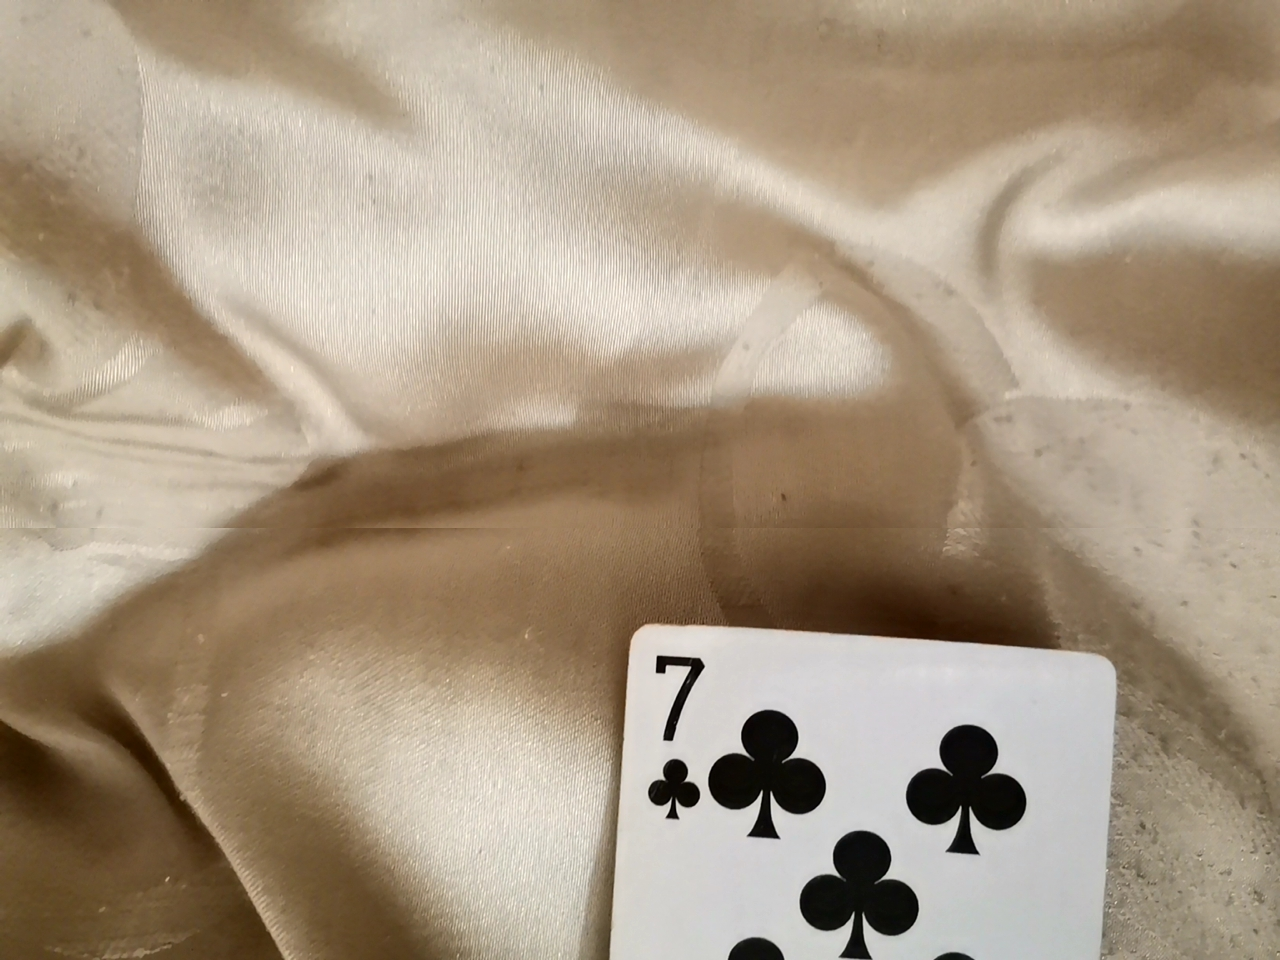mh 7: (585, 602, 1116, 960)
